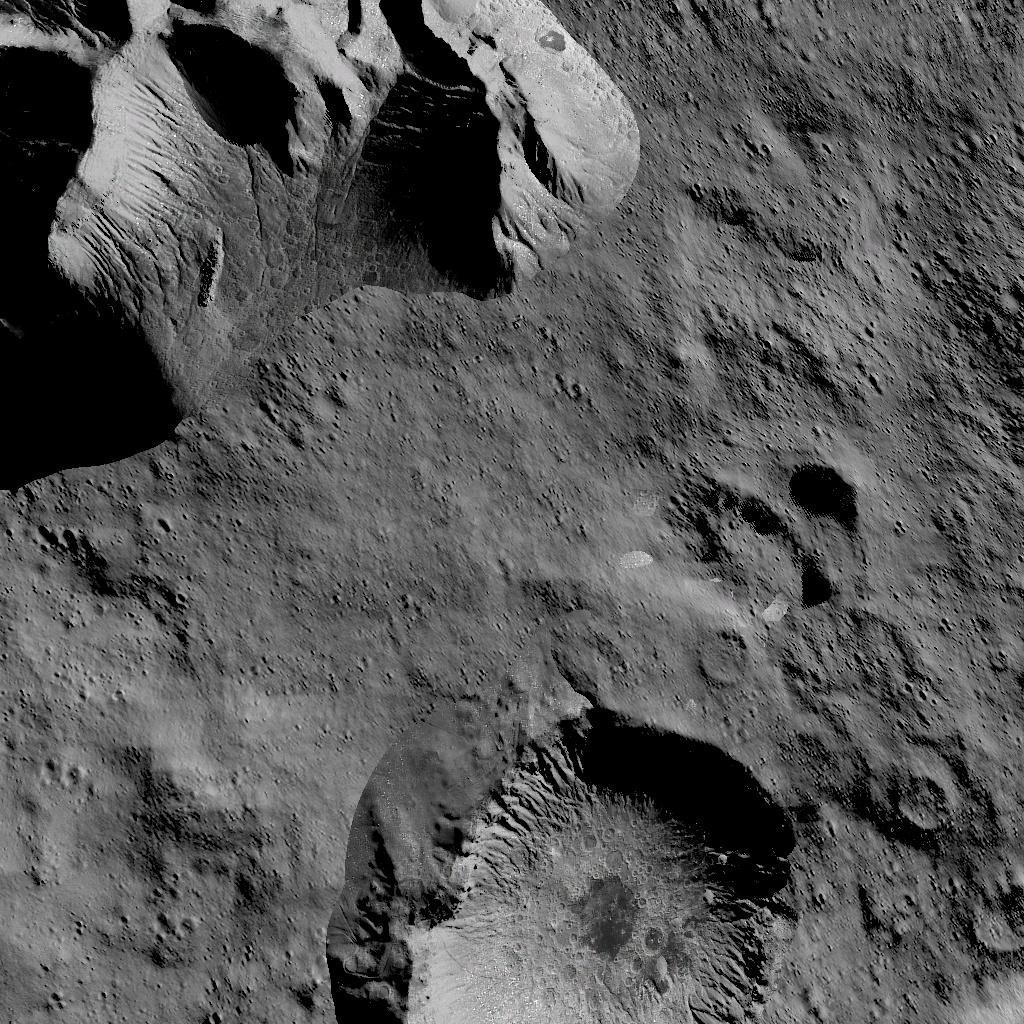Boulders: (0, 0, 644, 475)
Crater: (325, 702, 810, 1024), (682, 452, 868, 615), (884, 762, 956, 842), (957, 875, 1024, 959), (688, 628, 750, 690)
Plan surface: (669, 0, 1024, 441), (3, 484, 650, 690), (3, 696, 301, 1024)
